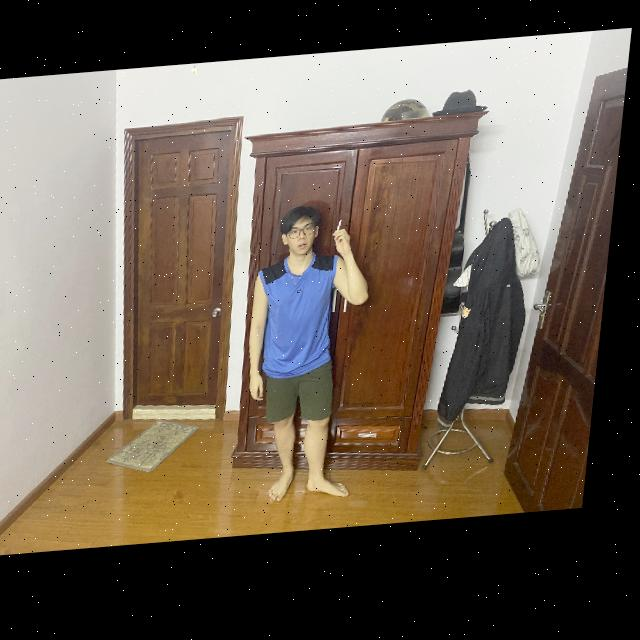cigarette: (342, 226, 348, 237)
